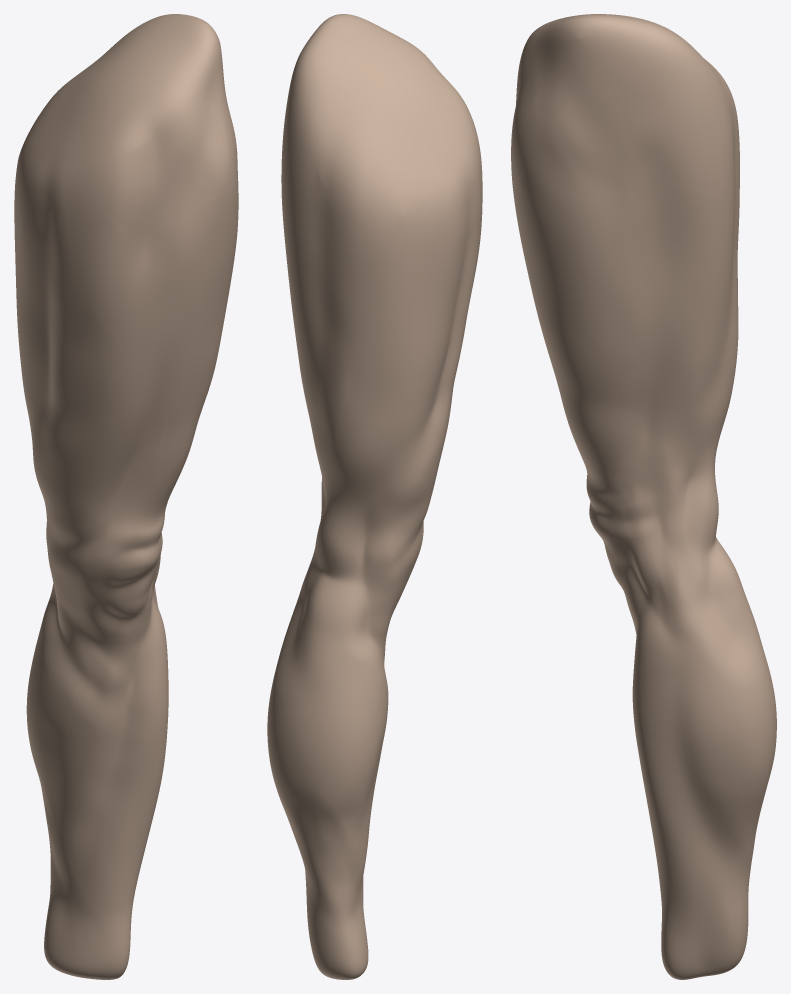
File: sculpt-leg.glb
3 views of the same model, side by side, from view 1: azimuth 30°, elevation 25°; view 2: azimuth 150°, elevation 25°; view 3: azimuth 270°, elevation 25° (orthographic). The views are drawn at different scales.
Parts seen in each view (by area): view 1: sculpt-leg; view 2: sculpt-leg; view 3: sculpt-leg.
Part boxes in pixels (x1,y1,x2,y2): sculpt-leg: (14, 14, 238, 979); sculpt-leg: (267, 14, 482, 979); sculpt-leg: (511, 14, 776, 979).
Size of the model in its own units: 0.1745 by 0.915 by 0.2238.
